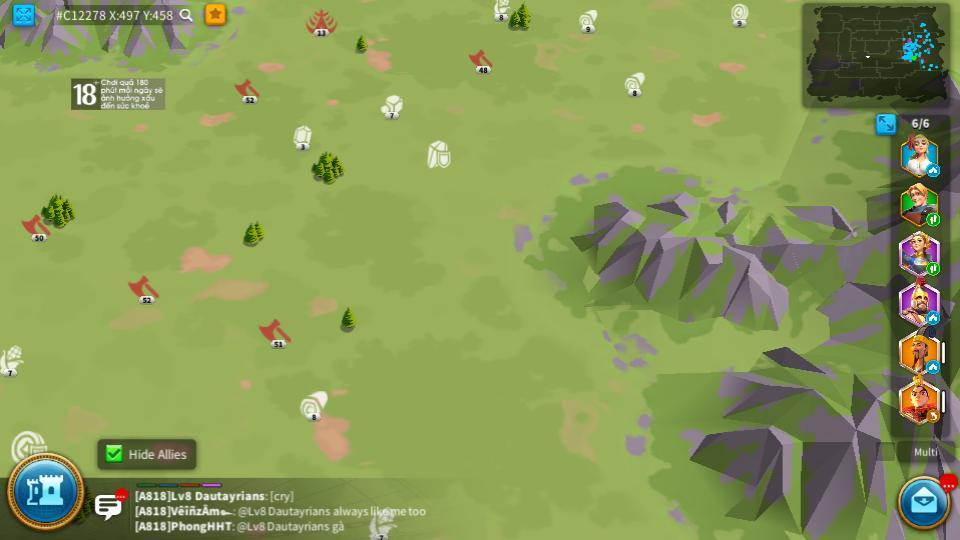gem-z-out: (293, 125, 313, 147)
march_idle: (925, 165, 942, 177), (927, 312, 940, 324), (927, 362, 940, 373)
march_marching: (925, 263, 938, 275), (927, 215, 940, 226)
march_returning: (926, 411, 940, 422)
